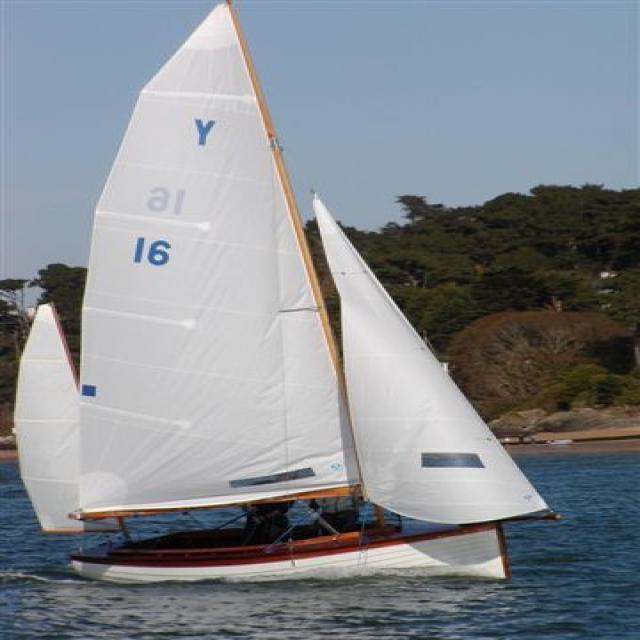Ship: (3, 1, 552, 591)
